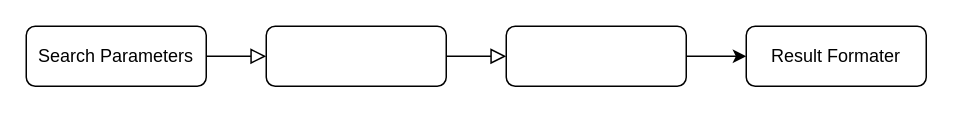
Some shapes in this 953 by 113 pixel diagram are drawn without their labels. Each missing label, with the centre of its shape:
"JDBC Execute" belongs at (595,55).
"Query Generator" belongs at (355,55).
